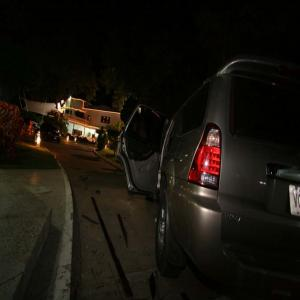Vehicle-registration-plate: (290, 187, 300, 217)
